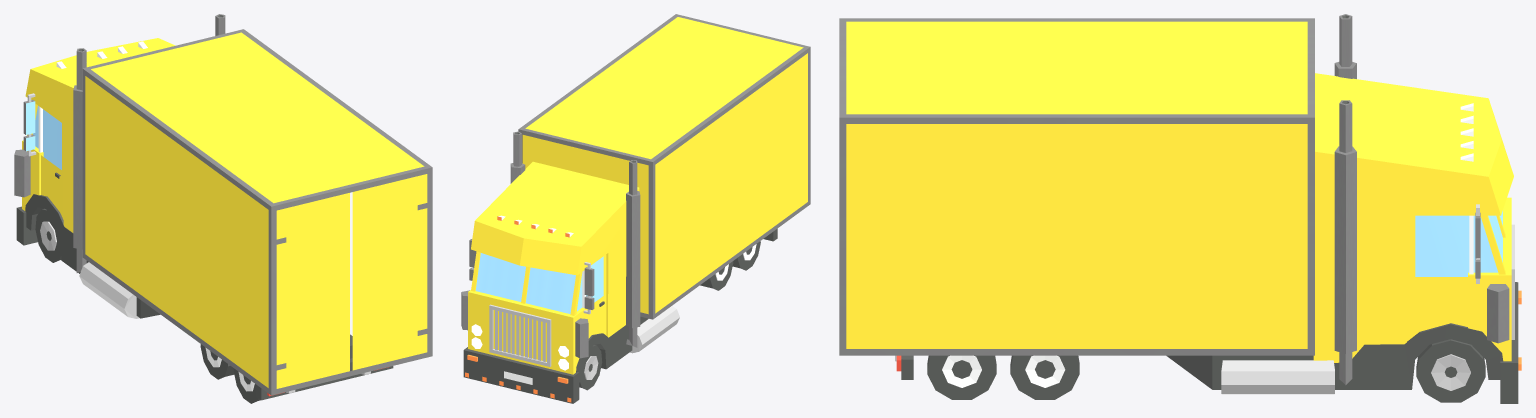
Rendered from transport_truck.006.glb.
The picture shows the model from 3 angles, left to right: view 1: azimuth 30°, elevation 25°; view 2: azimuth 150°, elevation 25°; view 3: azimuth 270°, elevation 25°; orthographic projection. The views are drawn at different scales.
Parts seen in each view (by area): view 1: transport_truck.006(Clone); view 2: transport_truck.006(Clone); view 3: transport_truck.006(Clone).
Part boxes in pixels (x1,y1,x2,y2): transport_truck.006(Clone): (14,14,432,403); transport_truck.006(Clone): (461,14,810,403); transport_truck.006(Clone): (839,14,1521,403).
Bounding box in the file's own units: 2.21 × 3.18 × 6.42.
Materials: 1 (1 with a texture image).
